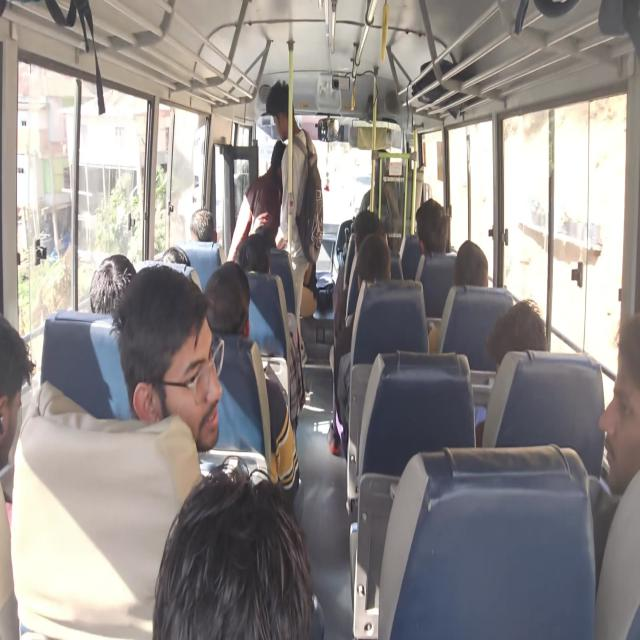person: (131, 459, 272, 638), (120, 261, 220, 442), (605, 346, 640, 530), (498, 304, 567, 386), (344, 231, 407, 303), (0, 326, 27, 493), (450, 209, 498, 302), (410, 188, 452, 271), (348, 205, 404, 266), (268, 77, 306, 162), (231, 234, 273, 304), (84, 251, 133, 310), (258, 137, 300, 197), (157, 233, 193, 285), (212, 264, 238, 322), (182, 210, 213, 244)
